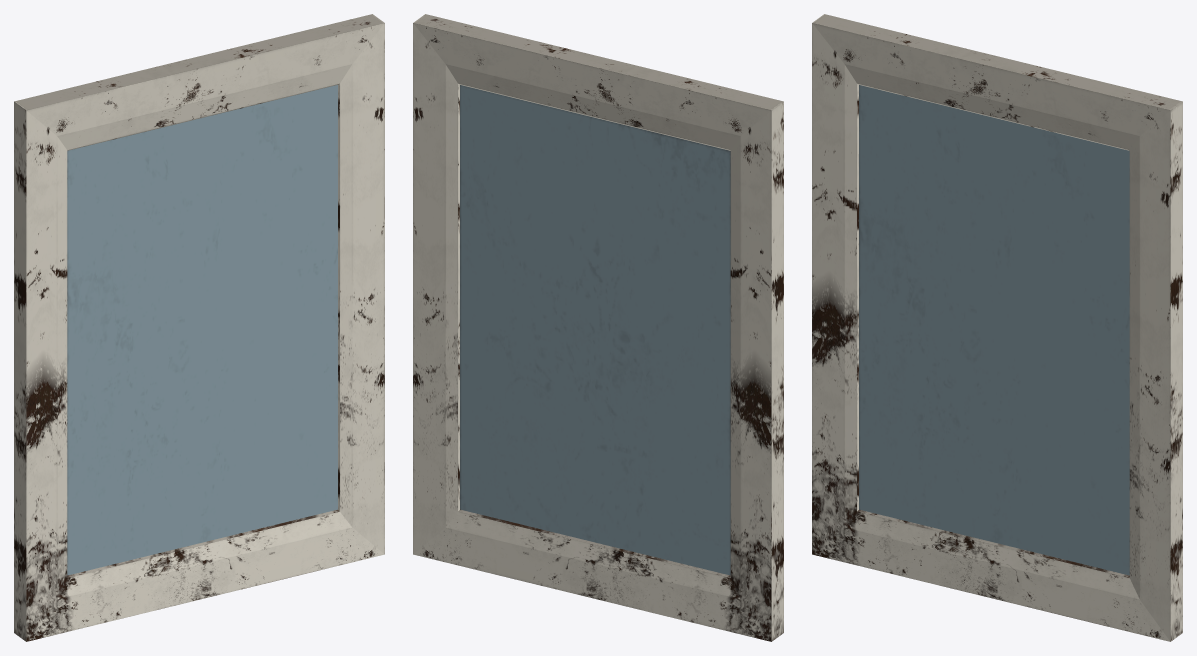
The model's file is Broken Mirror.obj.
The picture shows the model from 3 angles, left to right: view 1: azimuth 30°, elevation 25°; view 2: azimuth 150°, elevation 25°; view 3: azimuth 330°, elevation 25°; orthographic projection.
Visible parts, largest first — view 1: Cube.001, Cube; view 2: Cube.001, Cube; view 3: Cube.001, Cube.
Boxes of the visible parts, left/top/right/bottom form: Cube.001: left=67, top=85, right=337, bottom=575; Cube: left=14, top=14, right=384, bottom=641; Cube.001: left=460, top=85, right=730, bottom=575; Cube: left=413, top=14, right=783, bottom=641; Cube.001: left=859, top=85, right=1129, bottom=575; Cube: left=812, top=14, right=1182, bottom=641.
Bounding box in the file's own units: 0.8469 × 1.2 × 0.05.
